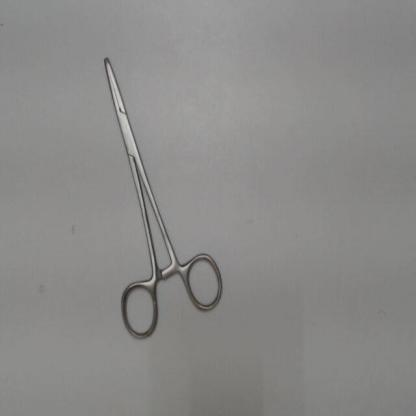Mayo Needle Holder: (93, 44, 231, 348)
